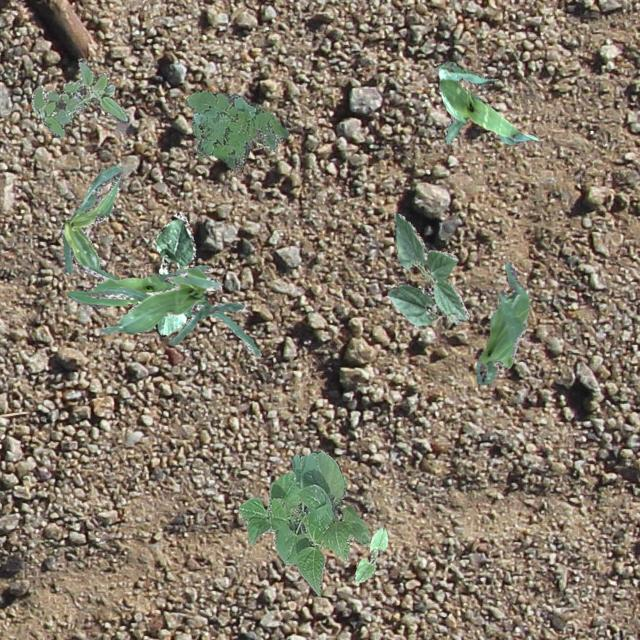crop: (238, 450, 370, 594), (66, 264, 260, 356), (86, 266, 245, 344), (386, 212, 468, 326), (436, 60, 536, 144), (60, 166, 122, 276), (474, 261, 528, 384), (153, 210, 194, 336), (352, 526, 386, 582)
weed: (184, 89, 288, 170), (30, 56, 128, 136)
